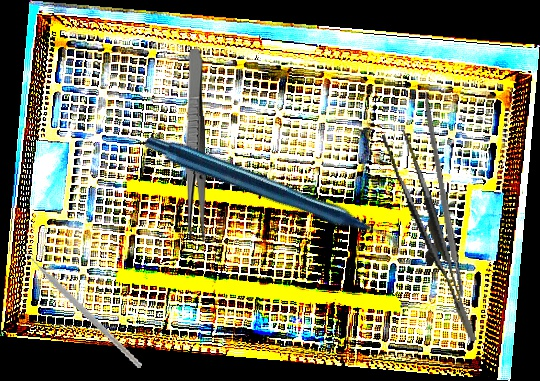Chopper: (5, 239, 164, 369)
Dressing Forceps: (183, 48, 207, 242)
Handpiece: (141, 54, 406, 340)
Scalpel Handle: (420, 90, 466, 299)
Tissue Forceps: (381, 124, 478, 351)
